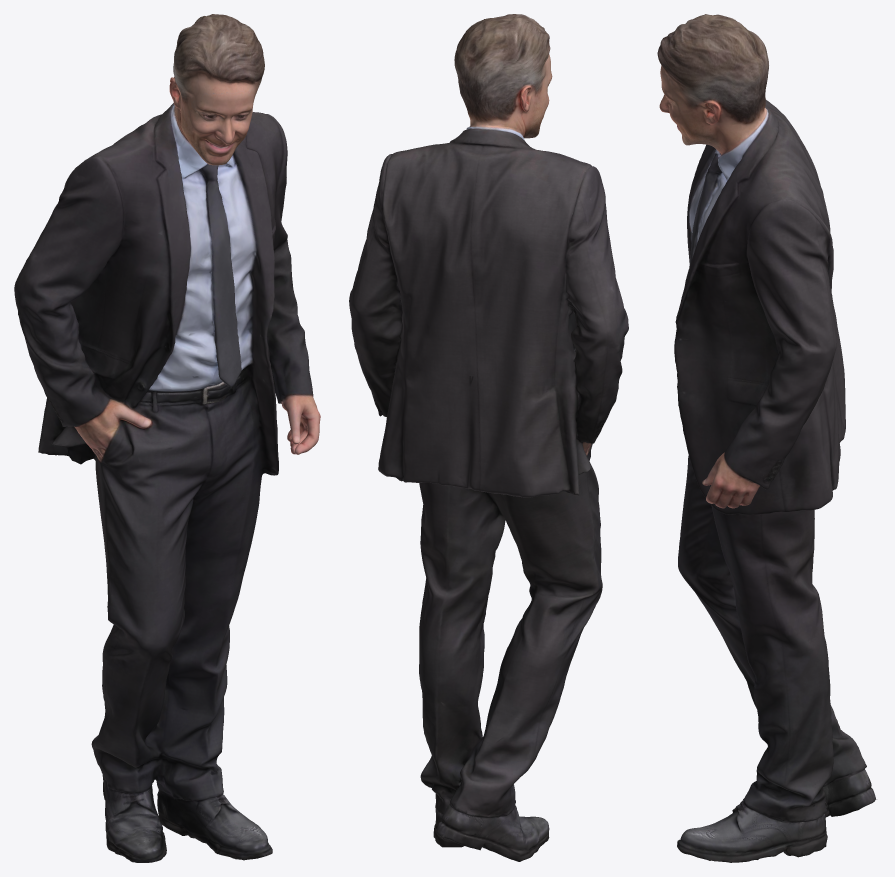
3 renders of one model, left to right at view 1: azimuth 30°, elevation 25°; view 2: azimuth 150°, elevation 25°; view 3: azimuth 270°, elevation 25°, orthographic. The views are drawn at different scales.
Visible parts, largest first — view 1: rp_dennis_posed_004_100k; view 2: rp_dennis_posed_004_100k; view 3: rp_dennis_posed_004_100k.
Part boxes in pixels (x1,y1,x2,y2): rp_dennis_posed_004_100k: (14,14,320,862); rp_dennis_posed_004_100k: (349,14,628,861); rp_dennis_posed_004_100k: (657,14,876,862).
Bounding box in the file's own units: 1.28 × 3.74 × 0.9151.
Materials: 1 (1 with a texture image).
